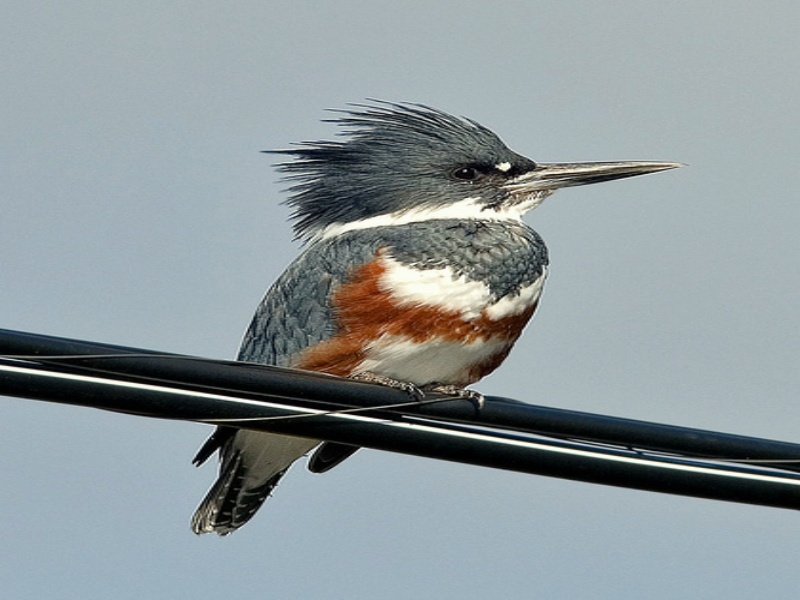kingfisher: (187, 90, 691, 547)
